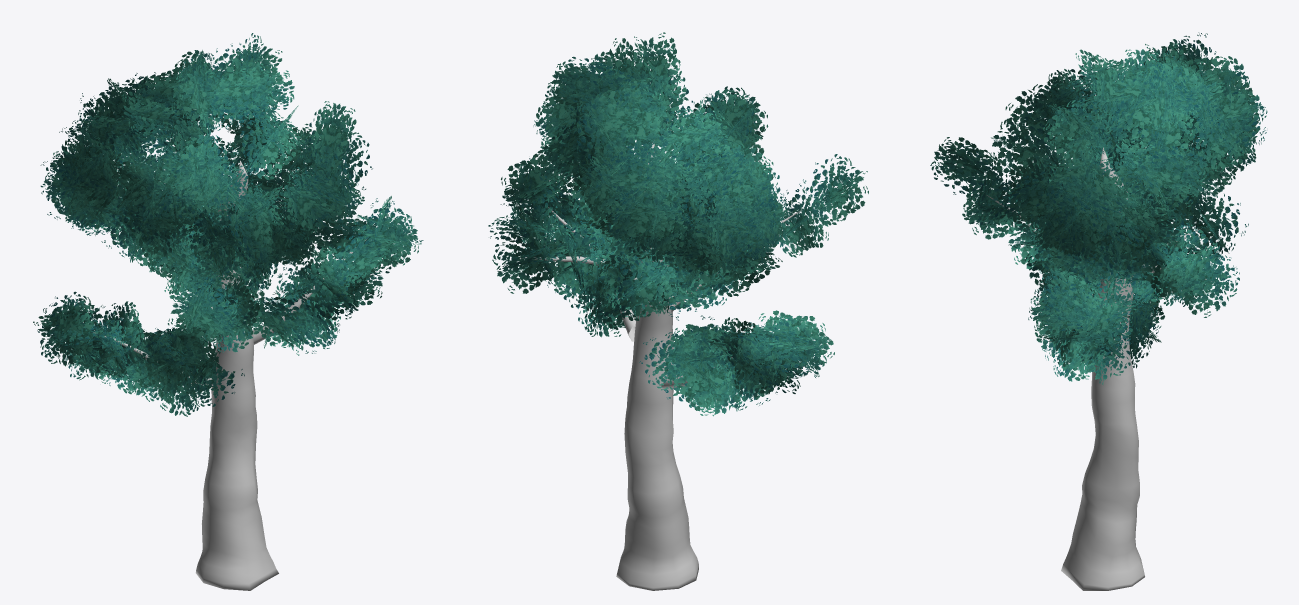
Rendered from Tree_M_01.fbx.
3 renders of one model, left to right at view 1: azimuth 30°, elevation 25°; view 2: azimuth 150°, elevation 25°; view 3: azimuth 270°, elevation 25°, orthographic. The views are drawn at different scales.
Visible parts, largest first — view 1: Tree_M1_Leaves7, Tree_M_01, Tree_M1_Leaves1, Tree_M1_Leaves2, Tree_M1_Leaves6, Tree_M1_Leaves4; view 2: Tree_M1_Leaves7, Tree_M_01, Tree_M1_Leaves1, Tree_M1_Leaves2, Tree_M1_Leaves4, Tree_M1_Leaves3, Tree_M1_Leaves5, Tree_M1_Leaves6; view 3: Tree_M1_Leaves7, Tree_M_01, Tree_M1_Leaves2, Tree_M1_Leaves6, Tree_M1_Leaves4, Tree_M1_Leaves3, Tree_M1_Leaves5, Tree_M1_Leaves1.
Part boxes in pixels (bbox=[...]): Tree_M1_Leaves7: bbox=[40, 33, 372, 300]; Tree_M_01: bbox=[93, 160, 366, 590]; Tree_M1_Leaves1: bbox=[33, 291, 244, 416]; Tree_M1_Leaves2: bbox=[251, 196, 423, 355]; Tree_M1_Leaves6: bbox=[160, 106, 297, 273]; Tree_M1_Leaves4: bbox=[167, 272, 264, 352]; Tree_M1_Leaves7: bbox=[530, 32, 786, 315]; Tree_M_01: bbox=[520, 143, 801, 590]; Tree_M1_Leaves1: bbox=[639, 310, 834, 416]; Tree_M1_Leaves2: bbox=[488, 154, 636, 337]; Tree_M1_Leaves4: bbox=[668, 154, 868, 320]; Tree_M1_Leaves3: bbox=[492, 219, 647, 300]; Tree_M1_Leaves5: bbox=[603, 250, 686, 320]; Tree_M1_Leaves6: bbox=[555, 75, 751, 255]; Tree_M1_Leaves7: bbox=[989, 32, 1267, 299]; Tree_M_01: bbox=[986, 147, 1211, 590]; Tree_M1_Leaves2: bbox=[1028, 267, 1146, 384]; Tree_M1_Leaves6: bbox=[1025, 72, 1210, 254]; Tree_M1_Leaves4: bbox=[930, 137, 1100, 297]; Tree_M1_Leaves3: bbox=[1108, 237, 1239, 317]; Tree_M1_Leaves5: bbox=[1155, 188, 1248, 260]; Tree_M1_Leaves1: bbox=[1129, 287, 1167, 368].
Bounding box in the file's own units: 847 × 1152 × 713.
